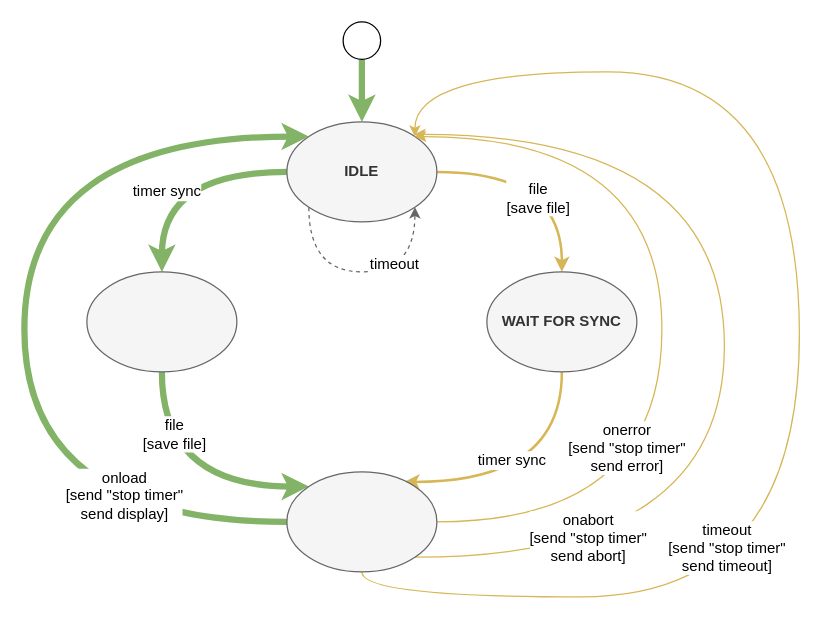
This 821x619 diagram has some shape labels left out. The centre of each missing label's shape, as x and y in pixels:
[setup] WAIT FOR ON: point (361, 521)
WAIT FOR START: point (161, 321)
